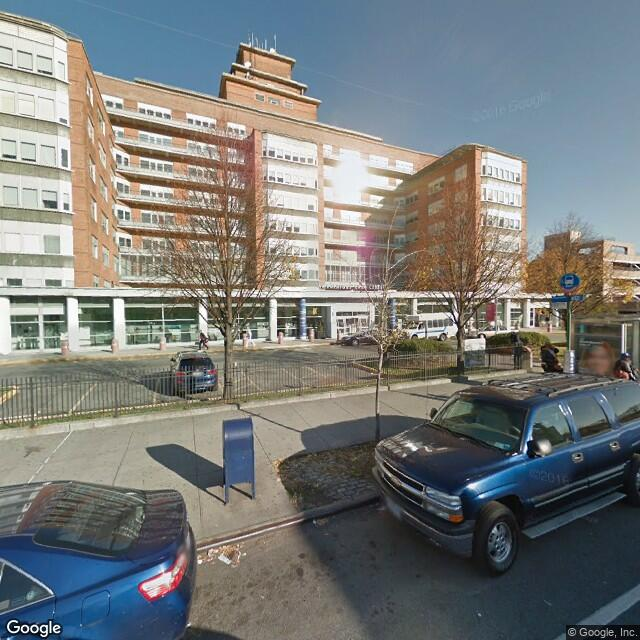litter: (309, 516, 333, 526), (215, 556, 236, 566), (193, 554, 205, 564), (210, 548, 217, 558)
